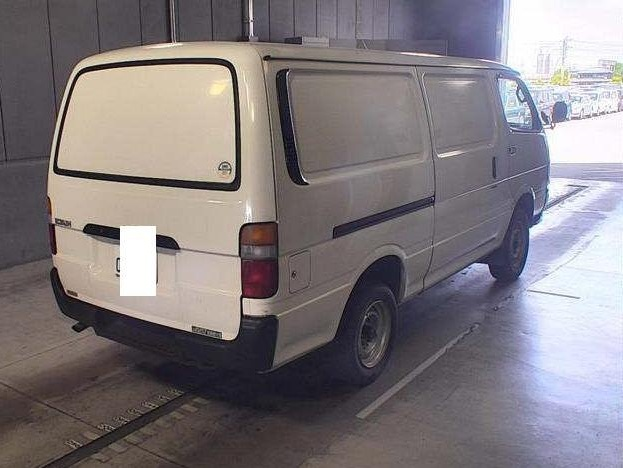van: (42, 44, 554, 372)
